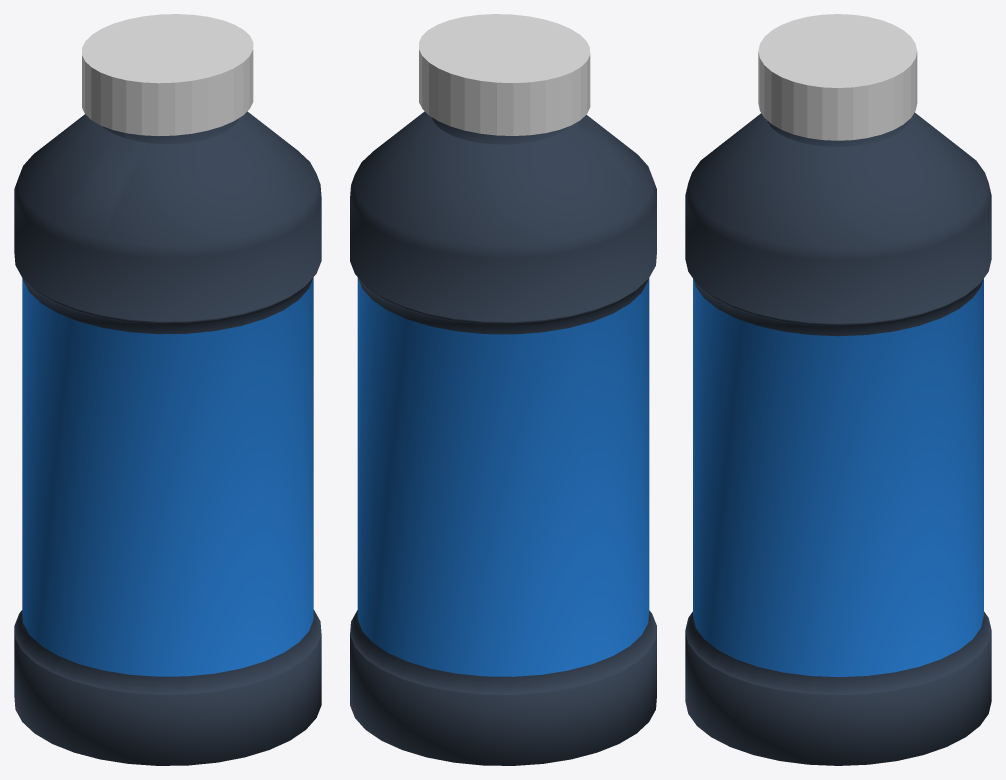
File: antiseptic.fbx
3 views of the same model, side by side, from view 1: azimuth 30°, elevation 25°; view 2: azimuth 150°, elevation 25°; view 3: azimuth 270°, elevation 25° (orthographic).
Parts seen in each view (by area): view 1: Cylinder.001, Cylinder.002; view 2: Cylinder.001, Cylinder.002; view 3: Cylinder.001, Cylinder.002.
Boxes of the visible parts, box(x1,y1,x2,y2) form: Cylinder.001: box(14, 111, 321, 765); Cylinder.002: box(82, 14, 253, 136); Cylinder.001: box(350, 111, 656, 765); Cylinder.002: box(419, 14, 590, 135); Cylinder.001: box(685, 112, 991, 765); Cylinder.002: box(758, 14, 917, 140).
Bounding box in the file's own units: 67.18 × 157 × 67.18.
